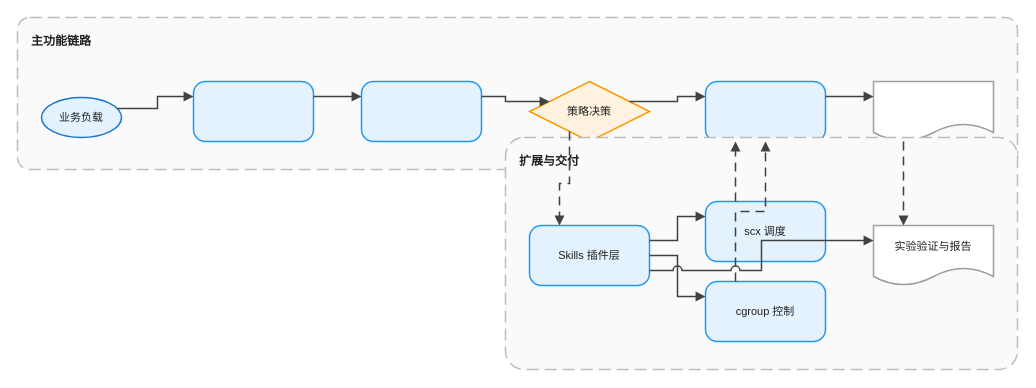
Image size: 1036x388. Some labels were removed from this diagram. The shapes that lost their labels are listed below. From the top down, each one's centre as x and y in pixels, then its label:
At point 253,111: "eBPF 观测层".
At point 421,111: "负载分析".
At point 765,111: "执行层".
At point 933,111: "性能收益".
